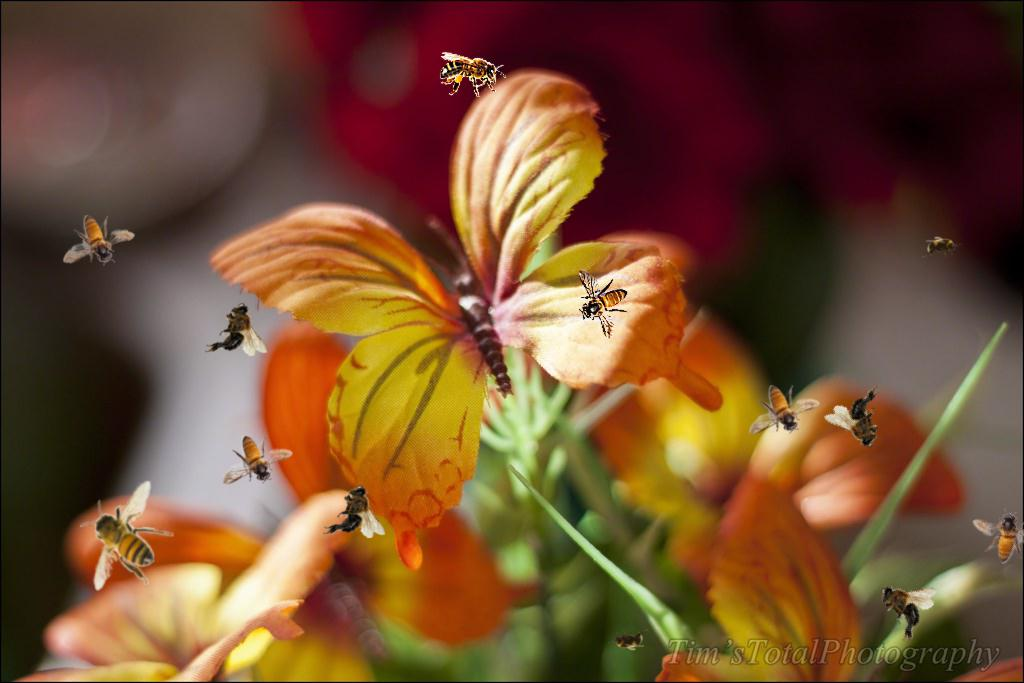Bee: (80, 480, 174, 591), (822, 382, 903, 460), (864, 567, 941, 647), (962, 494, 1024, 577), (62, 214, 136, 267), (578, 269, 628, 340), (222, 435, 293, 485), (749, 385, 820, 435), (323, 485, 385, 538), (205, 303, 267, 356), (440, 52, 506, 97), (608, 629, 648, 651), (922, 236, 962, 258)
